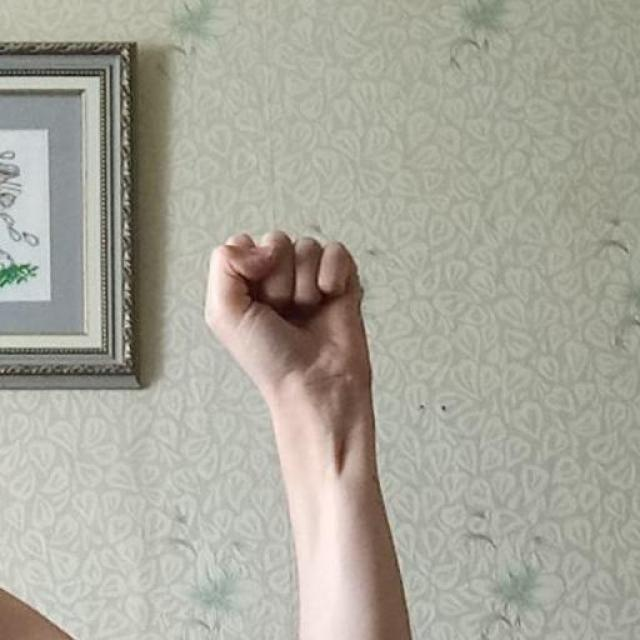hand: (201, 228, 379, 477)
